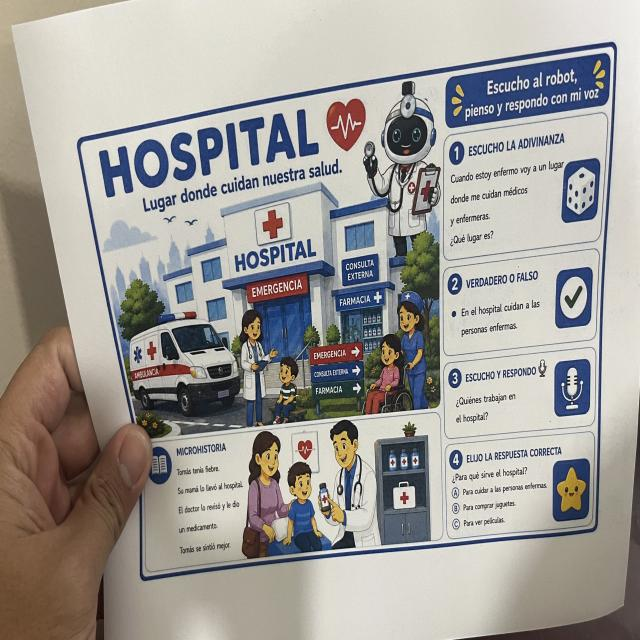hospital: (72, 34, 621, 587)
